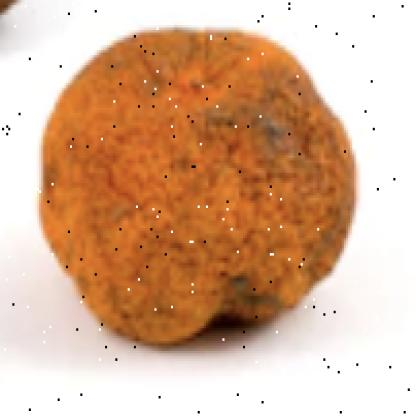rotten: (41, 24, 358, 348)
